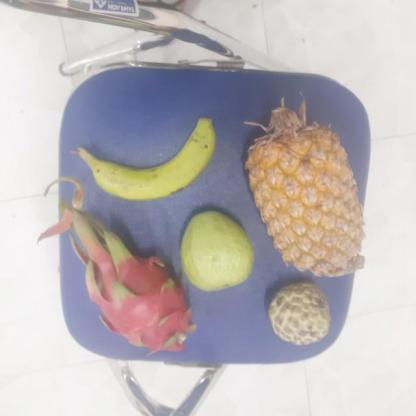annona: (267, 284, 330, 344)
banana: (74, 124, 213, 200)
guava: (177, 211, 253, 291)
pineapple: (244, 118, 360, 276)
pitaya: (89, 249, 191, 352)
